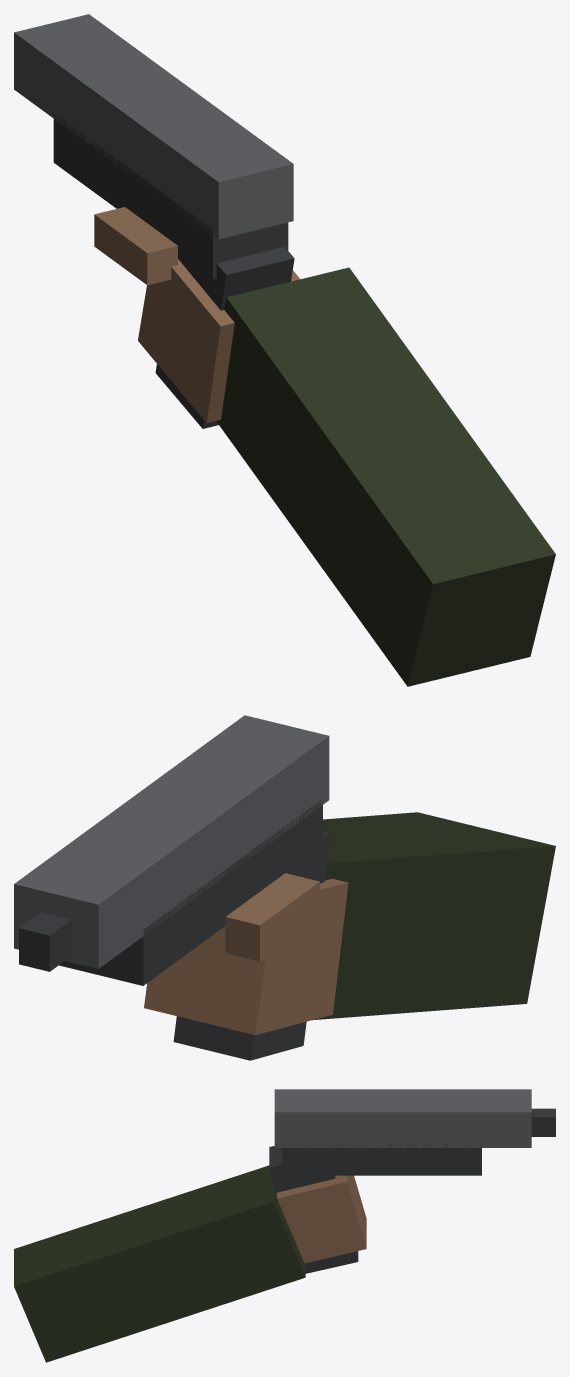
The model's file is pistol.glb.
3 renders of one model, top to bottom at view 1: azimuth 30°, elevation 25°; view 2: azimuth 150°, elevation 25°; view 3: azimuth 270°, elevation 25°, orthographic. The views are drawn at different scales.
Visible parts, largest first — view 1: pistol_3, pistol_0, pistol_2, pistol_1; view 2: pistol_3, pistol_0, pistol_2, pistol_1; view 3: pistol_3, pistol_0, pistol_1, pistol_2.
Boxes of the visible parts, left/top/right/bottom form: pistol_3: left=216, top=267, right=555, bottom=686; pistol_0: left=14, top=14, right=293, bottom=239; pistol_2: left=94, top=207, right=299, bottom=422; pistol_1: left=53, top=113, right=294, bottom=428; pistol_3: left=312, top=812, right=555, bottom=1020; pistol_0: left=14, top=715, right=329, bottom=968; pistol_2: left=144, top=873, right=348, bottom=1035; pistol_1: left=19, top=799, right=330, bottom=1060; pistol_3: left=14, top=1165, right=305, bottom=1362; pistol_0: left=274, top=1089, right=531, bottom=1147; pistol_1: left=269, top=1108, right=555, bottom=1273; pistol_2: left=277, top=1175, right=366, bottom=1263.
Bounding box in the file's own units: 0.2107 × 0.4664 × 0.9795.
